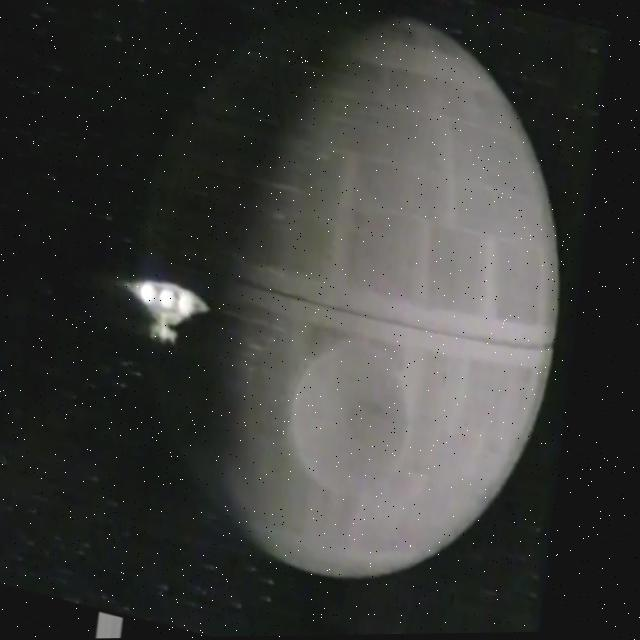deathstar: (178, 18, 560, 582)
